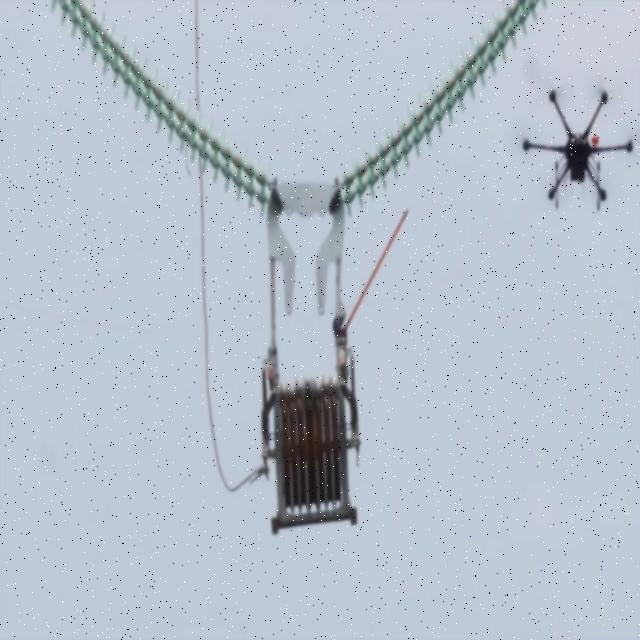UAV: (522, 78, 638, 211)
